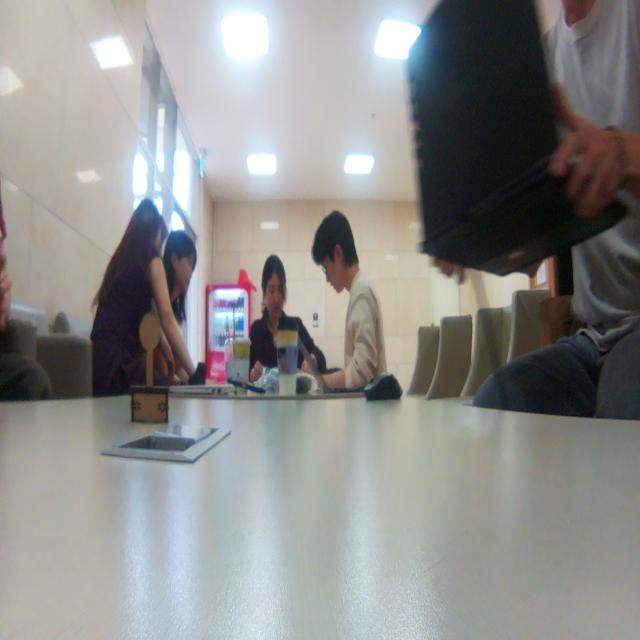target: (130, 312, 169, 424)
